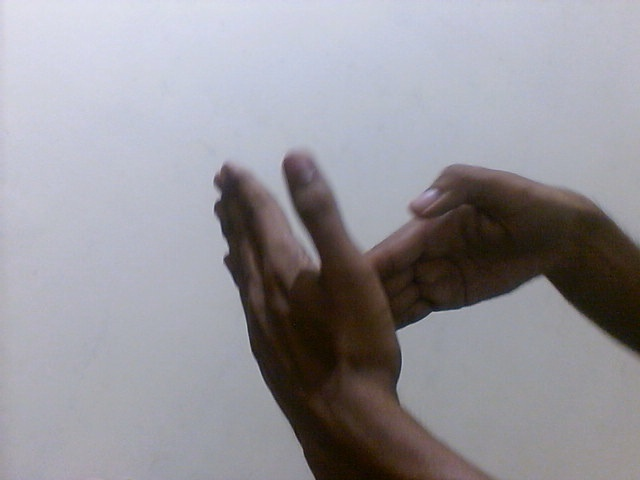hand: (209, 146, 408, 409), (359, 160, 560, 332)
